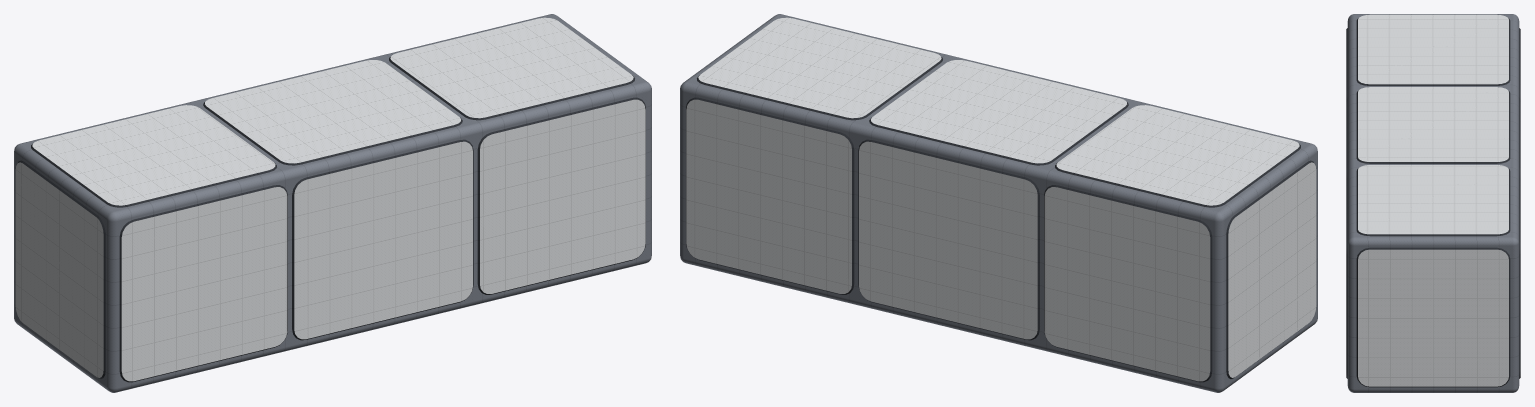
The model's file is R4B_Beam3.glb.
3 views of the same model, side by side, from view 1: azimuth 30°, elevation 25°; view 2: azimuth 150°, elevation 25°; view 3: azimuth 270°, elevation 25° (orthographic). The views are drawn at different scales.
Visible parts, largest first — view 1: R4B_Beam3; view 2: R4B_Beam3; view 3: R4B_Beam3.
Boxes of the visible parts, x1,y1,x2,y2 form: R4B_Beam3: (14, 14, 651, 392); R4B_Beam3: (680, 14, 1317, 392); R4B_Beam3: (1346, 14, 1520, 392).
Bounding box in the file's own units: 1.62 × 0.52 × 0.52.
Materials: 3 (3 with a texture image).
